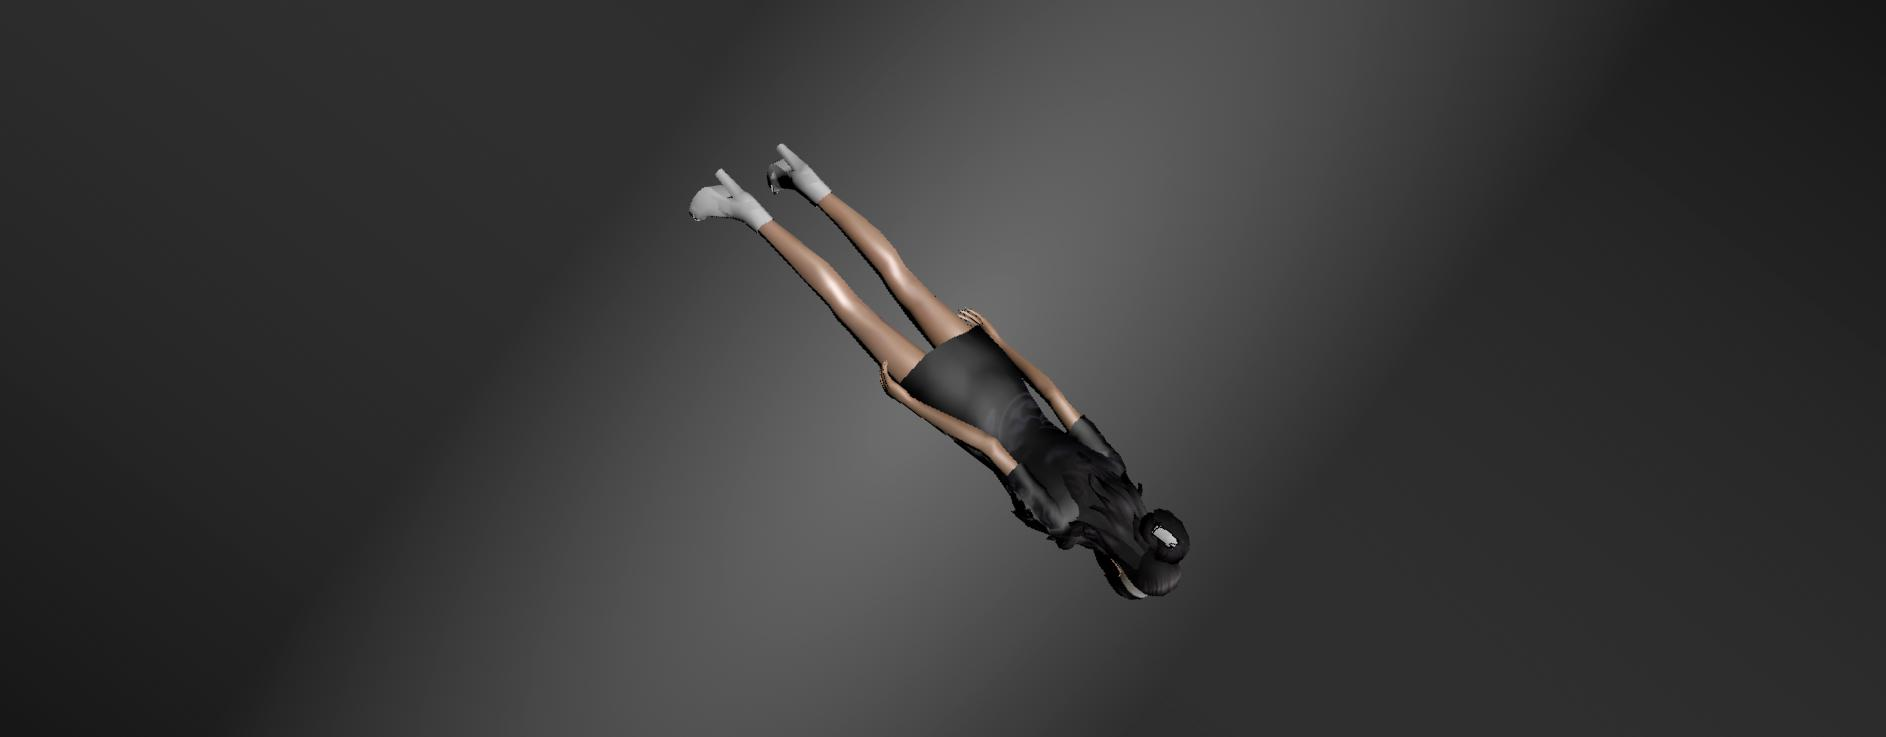clip: (1146, 524, 1184, 554)
